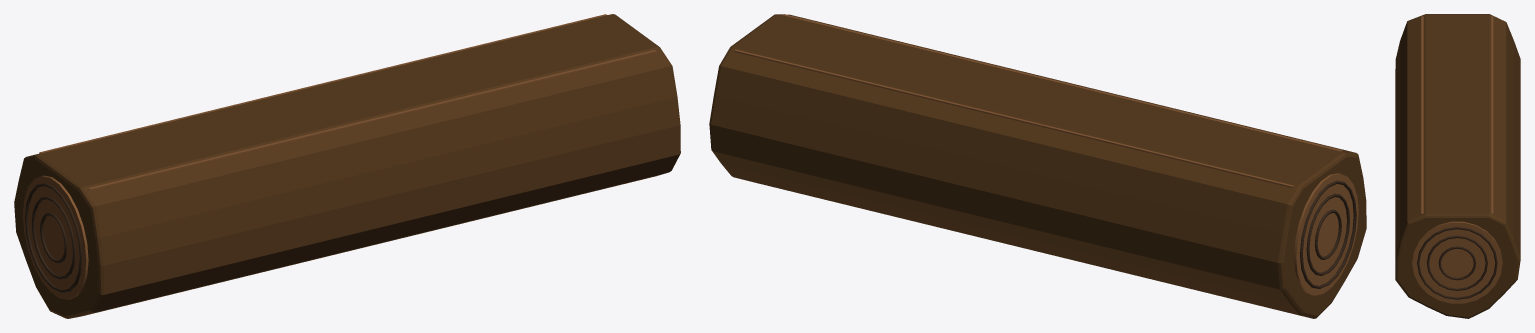
File: mia-log_seat.glb
The picture shows the model from 3 angles, left to right: view 1: azimuth 30°, elevation 25°; view 2: azimuth 150°, elevation 25°; view 3: azimuth 270°, elevation 25°; orthographic projection. The views are drawn at different scales.
Visible parts, largest first — view 1: Body_wood, Body_oak, Body_grain; view 2: Body_wood, Body_oak, Body_grain; view 3: Body_wood, Body_oak, Body_grain.
Part boxes in pixels (x1,y1,x2,y2): Body_wood: [14, 14, 680, 318]; Body_oak: [23, 14, 656, 299]; Body_grain: [25, 183, 82, 292]; Body_wood: [709, 14, 1366, 318]; Body_oak: [734, 14, 1358, 295]; Body_grain: [1300, 180, 1356, 288]; Body_wood: [1395, 14, 1520, 318]; Body_oak: [1412, 16, 1502, 303]; Body_grain: [1417, 226, 1497, 299].
Bounding box in the file's own units: 1.81 × 0.4288 × 0.466.
